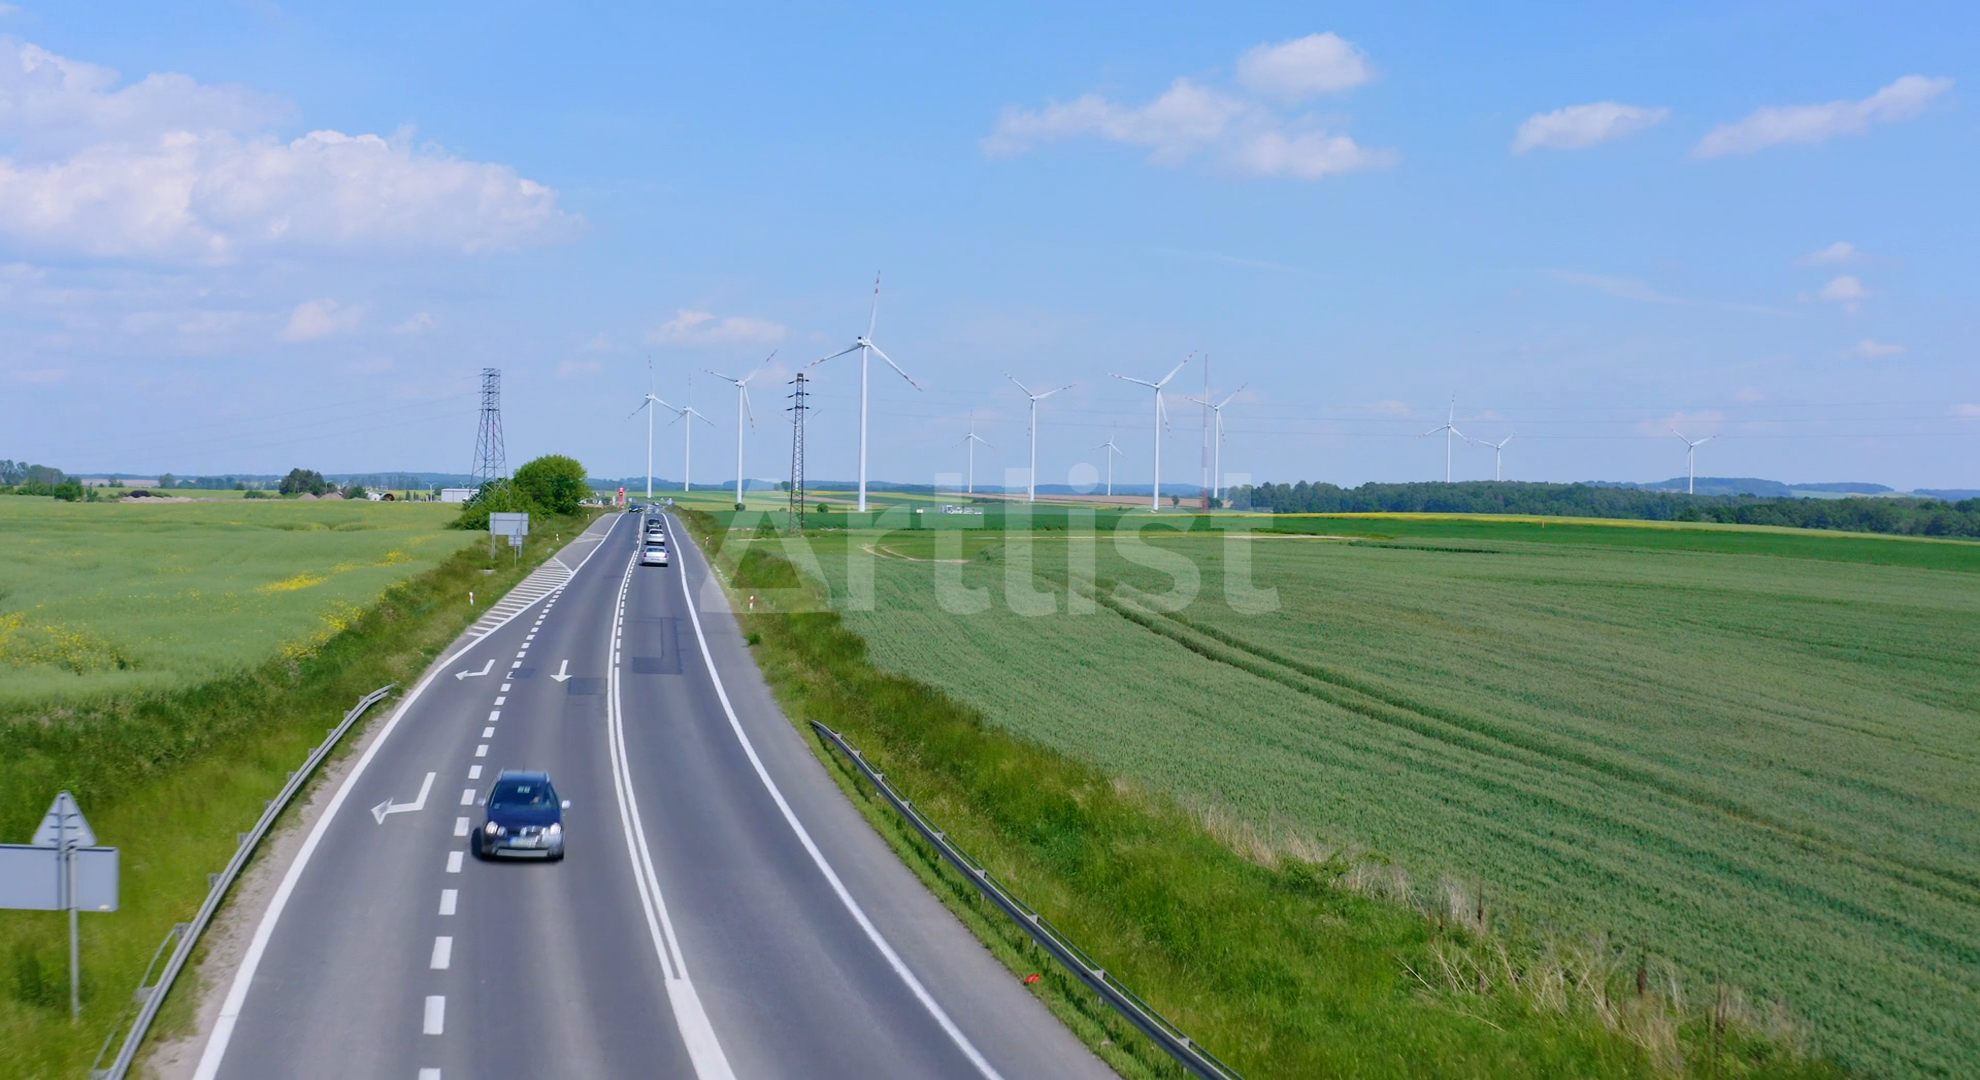car: (475, 773, 577, 867), (641, 549, 673, 565), (648, 523, 672, 540)
directionsign: (0, 819, 124, 912), (484, 513, 529, 568)
